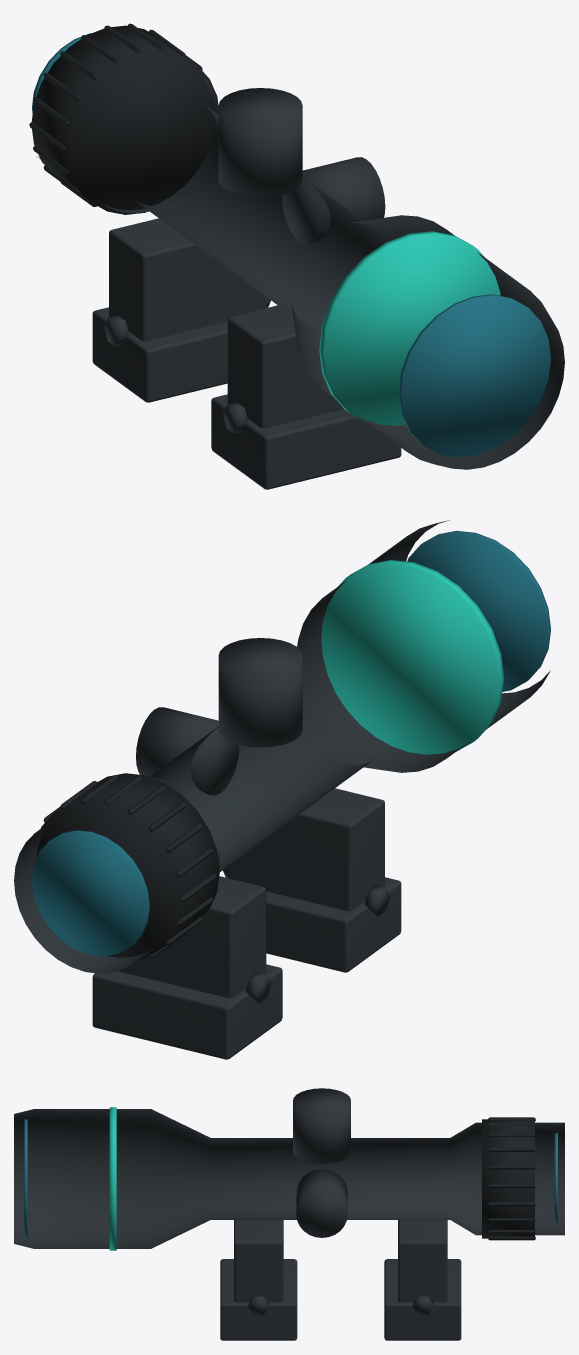
The model's file is scope.glb.
The picture shows the model from 3 angles, top to bottom: view 1: azimuth 30°, elevation 25°; view 2: azimuth 150°, elevation 25°; view 3: azimuth 270°, elevation 25°; orthographic projection. The views are drawn at different scales.
Parts seen in each view (by area): view 1: Scope_optimized; view 2: Scope_optimized; view 3: Scope_optimized.
Boxes of the visible parts, x1=… form: Scope_optimized: x1=29, y1=23, x2=564, y2=489; Scope_optimized: x1=14, y1=520, x2=550, y2=1059; Scope_optimized: x1=14, y1=1088, x2=564, y2=1340.
Bounding box in the file's own units: 0.0915 × 0.1405 × 0.322.
